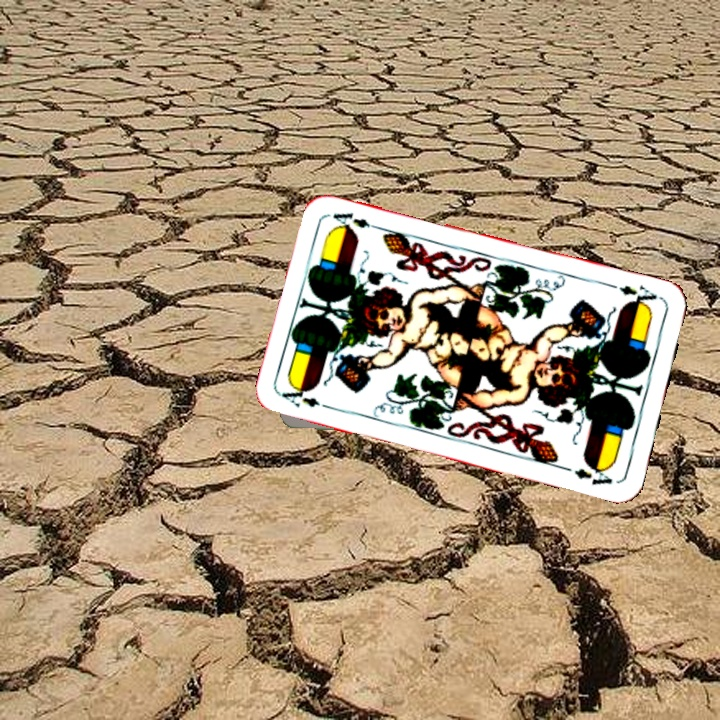EA: (615, 281, 660, 311), (278, 382, 323, 410)
